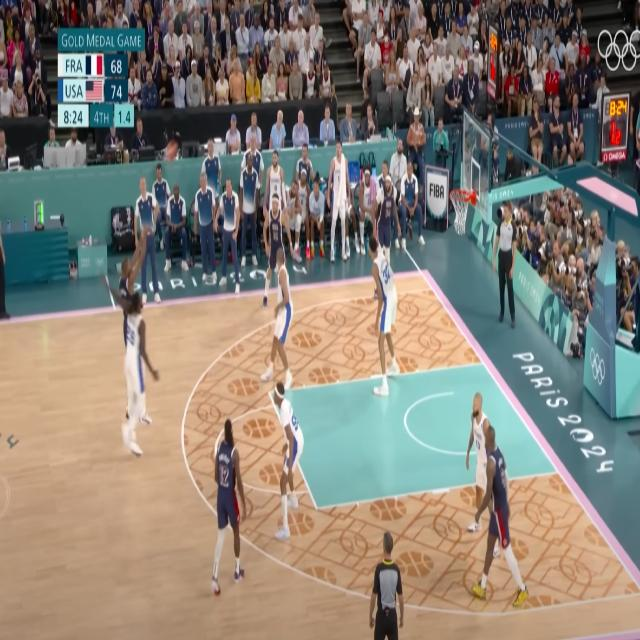basketball: (167, 139, 177, 163)
hoop: (450, 187, 472, 234)
